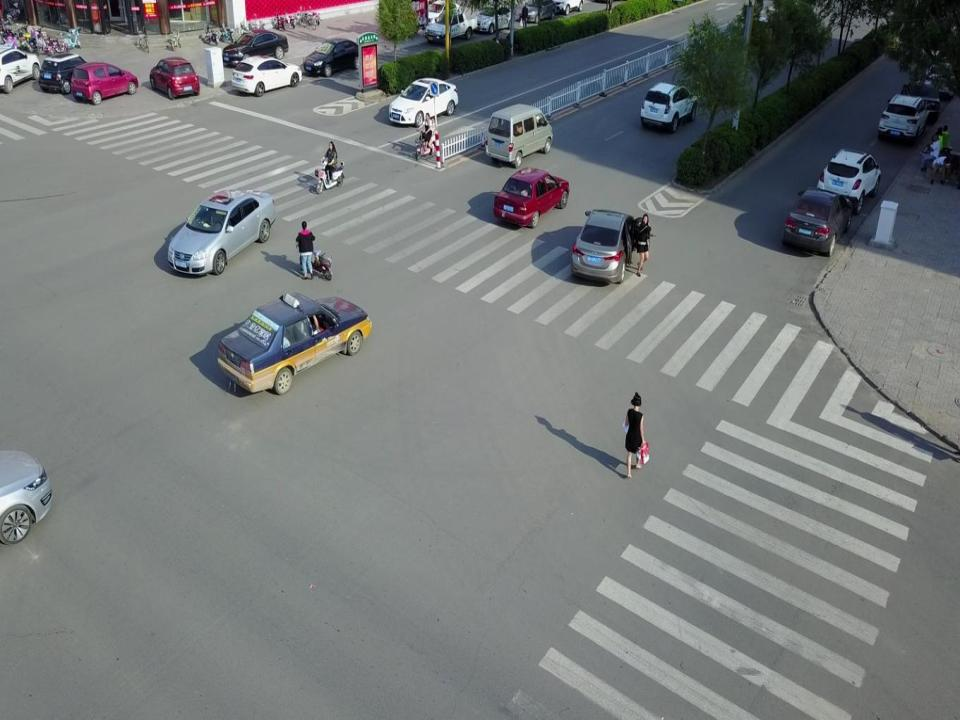car: (212, 290, 372, 400), (161, 186, 279, 277), (569, 199, 638, 284), (783, 179, 855, 259), (0, 444, 53, 540), (818, 143, 885, 214), (491, 168, 571, 227), (385, 77, 461, 125), (70, 57, 139, 105), (877, 86, 930, 144), (228, 55, 303, 94), (639, 80, 698, 128), (147, 56, 200, 102), (299, 37, 358, 77), (218, 30, 291, 60), (37, 51, 86, 95), (0, 44, 42, 93), (424, 8, 479, 40), (470, 3, 513, 31), (423, 1, 460, 23)
van: (483, 104, 555, 166)
